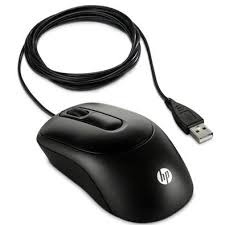mouse: (36, 100, 196, 225)
